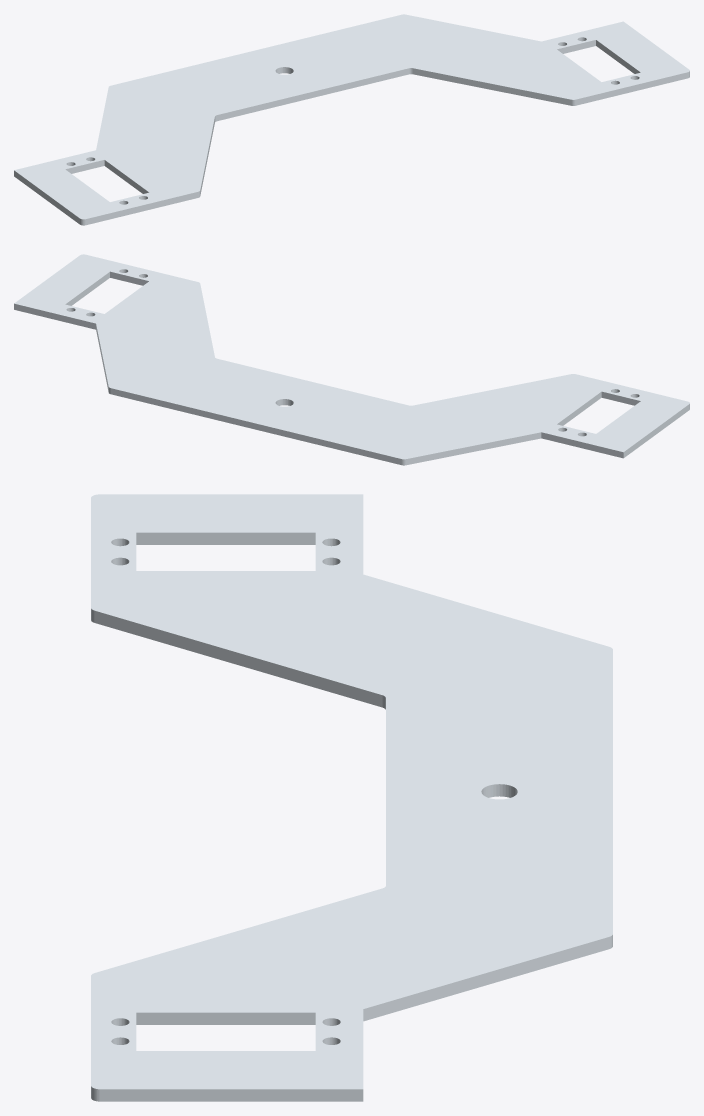
Rendered from bogie_link_plate.dae.
The picture shows the model from 3 angles, top to bottom: view 1: azimuth 30°, elevation 25°; view 2: azimuth 150°, elevation 25°; view 3: azimuth 270°, elevation 25°; orthographic projection. The views are drawn at different scales.
Parts seen in each view (by area): view 1: bogie_link_-_bogie_plate-1; view 2: bogie_link_-_bogie_plate-1; view 3: bogie_link_-_bogie_plate-1.
Part boxes in pixels (x1=…): bogie_link_-_bogie_plate-1: x1=14, y1=14, x2=689, y2=225; bogie_link_-_bogie_plate-1: x1=14, y1=254, x2=689, y2=465; bogie_link_-_bogie_plate-1: x1=91, y1=494, x2=612, y2=1101.
Size of the model in its own units: 0.31 by 0.115 by 0.003.
1 material, 1 textured.
